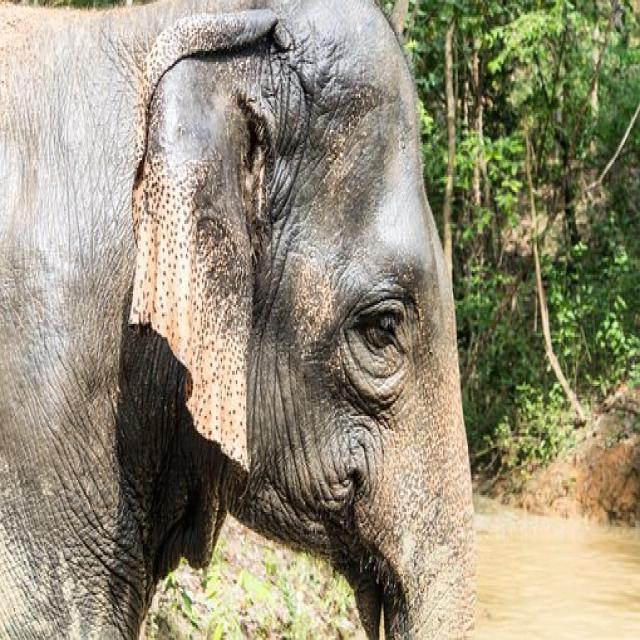Elephant: (8, 8, 482, 626)
